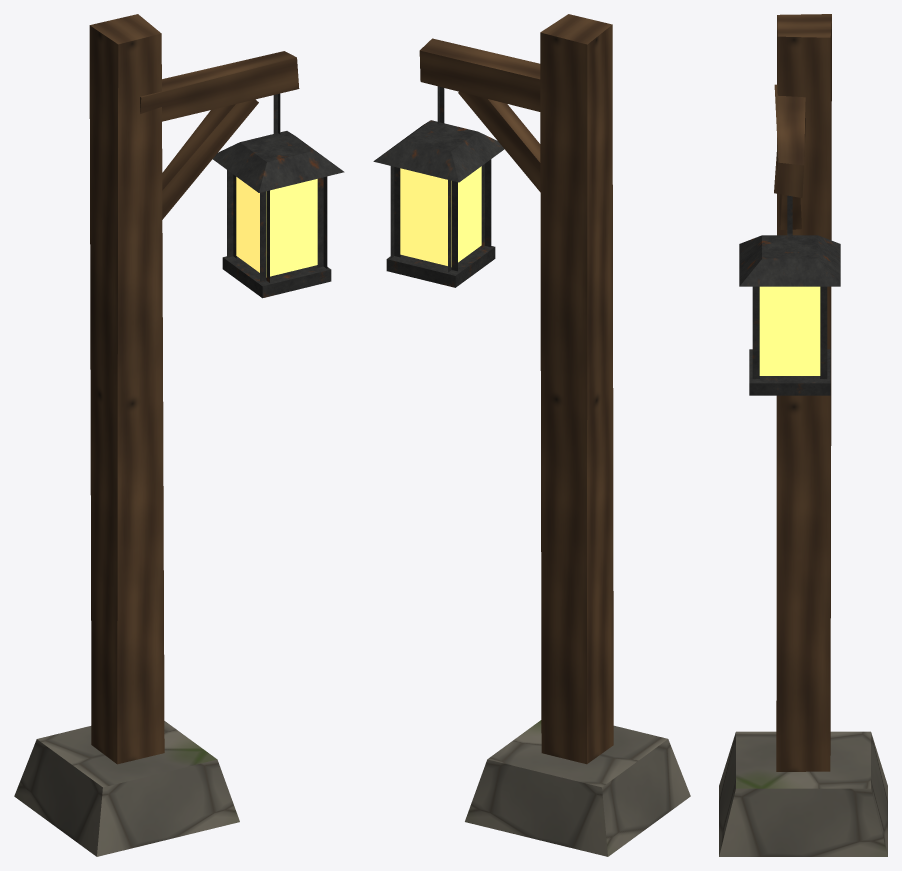
File: LanternPost.fbx
3 renders of one model, left to right at view 1: azimuth 30°, elevation 25°; view 2: azimuth 150°, elevation 25°; view 3: azimuth 270°, elevation 25°, orthographic. The views are drawn at different scales.
Visible parts, largest first — view 1: LanternPost; view 2: LanternPost; view 3: LanternPost.
Part boxes in pixels (x1=…): LanternPost: x1=14, y1=14, x2=344, y2=856; LanternPost: x1=373, y1=14, x2=690, y2=856; LanternPost: x1=719, y1=14, x2=887, y2=856.
Bounding box in the file's own units: 0.9 × 2.6 × 0.5.
